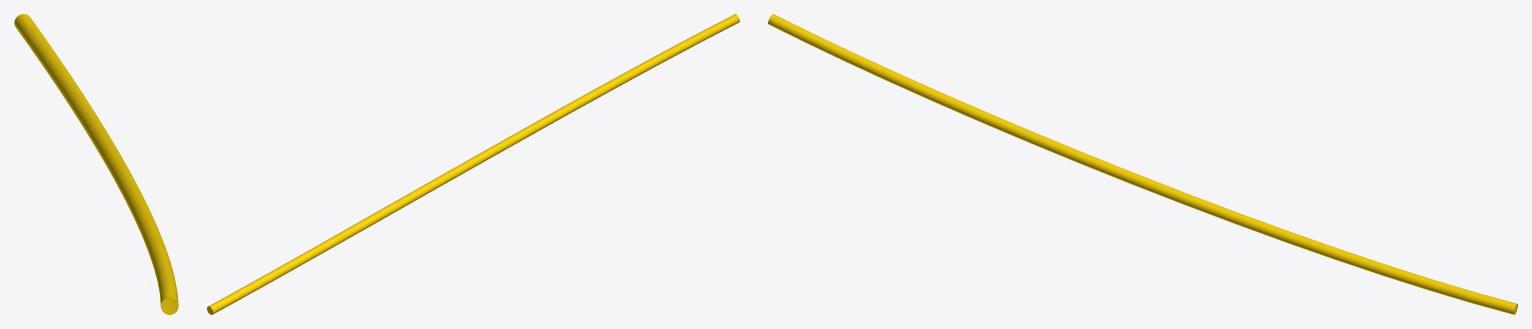
The model's file is Event_421115418_track_178.fbx.
The picture shows the model from 3 angles, left to right: view 1: azimuth 90°, elevation 25°; view 2: azimuth 210°, elevation 25°; view 3: azimuth 330°, elevation 25°; orthographic projection. The views are drawn at different scales.
Visible parts, largest first — view 1: Model; view 2: Model; view 3: Model.
Boxes of the visible parts, x1,y1,x2,y2 form: Model: (14, 14, 178, 314); Model: (207, 14, 739, 314); Model: (768, 14, 1517, 314).
Size of the model in its own units: 2.79 by 0.6292 by 0.3694.
